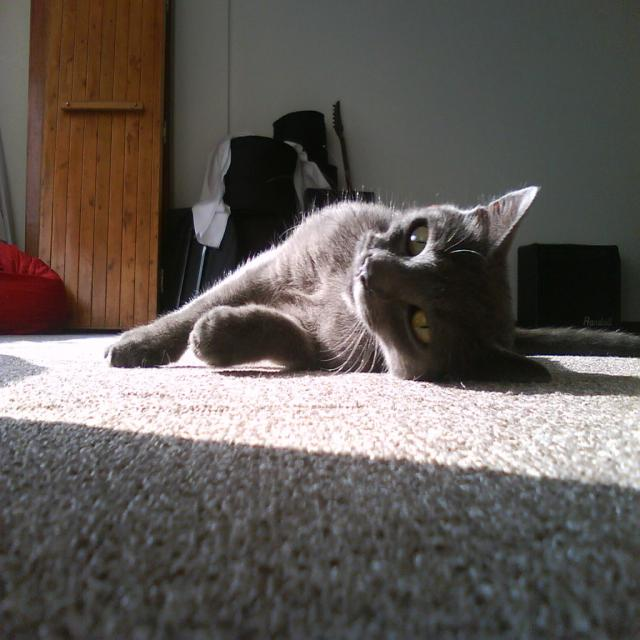Cat: (99, 184, 553, 382)
